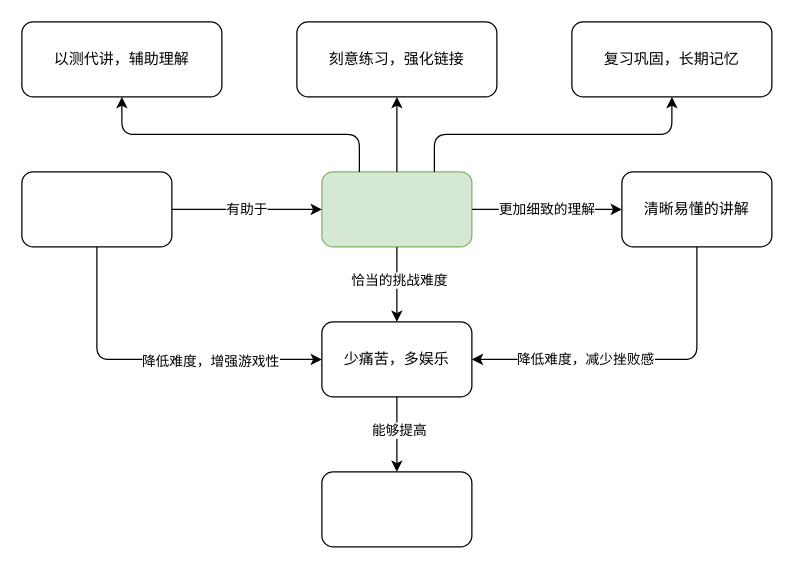
Some shapes in this 794 by 569 pixel diagram are drawn without their labels. Each missing label, with the centre of its shape:
"主动性" goes at (396,509).
"频繁测试" goes at (396,209).
"颗粒化" goes at (96,209).
